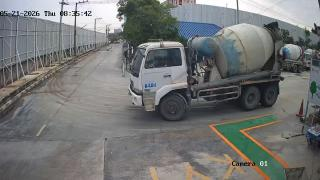cement_mixer_truck: (128, 22, 286, 120), (283, 41, 306, 75), (304, 48, 320, 58), (304, 53, 312, 69)
